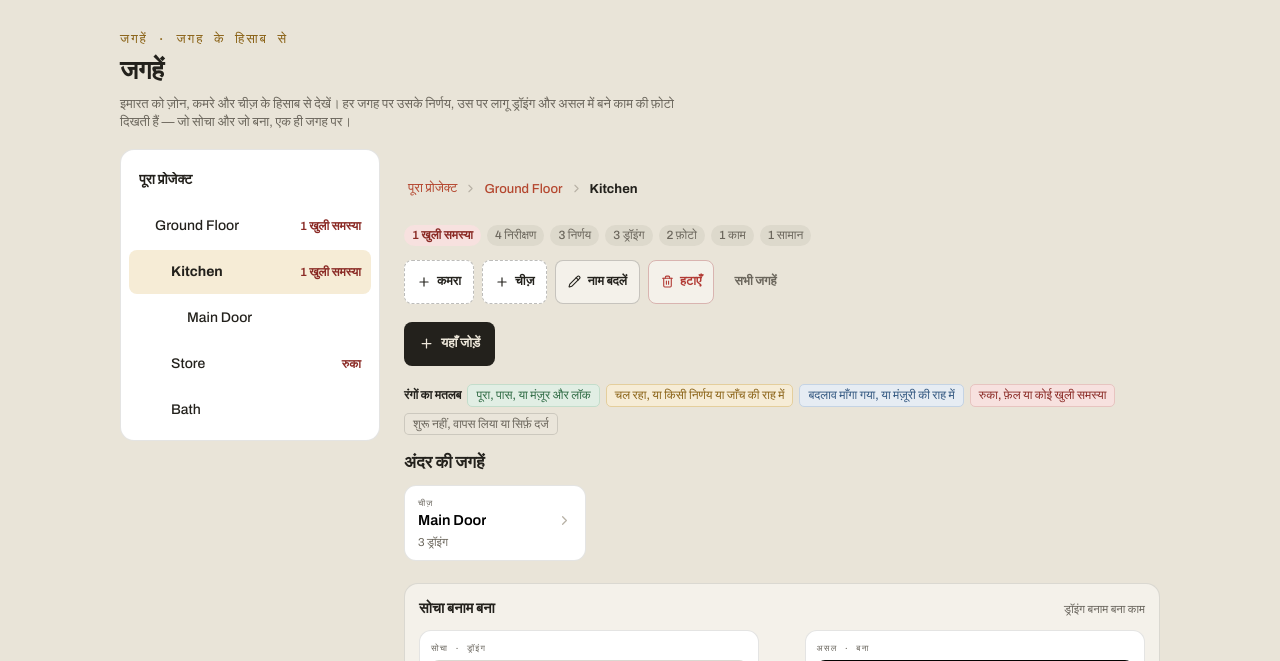
it: the Site Map in hi (#482 QA item 3) › the Add menu, with a delivery blocked, shows no English
Click the button with test id "place-add".
click(450, 344)  # box left=404, top=322, right=495, bottom=366
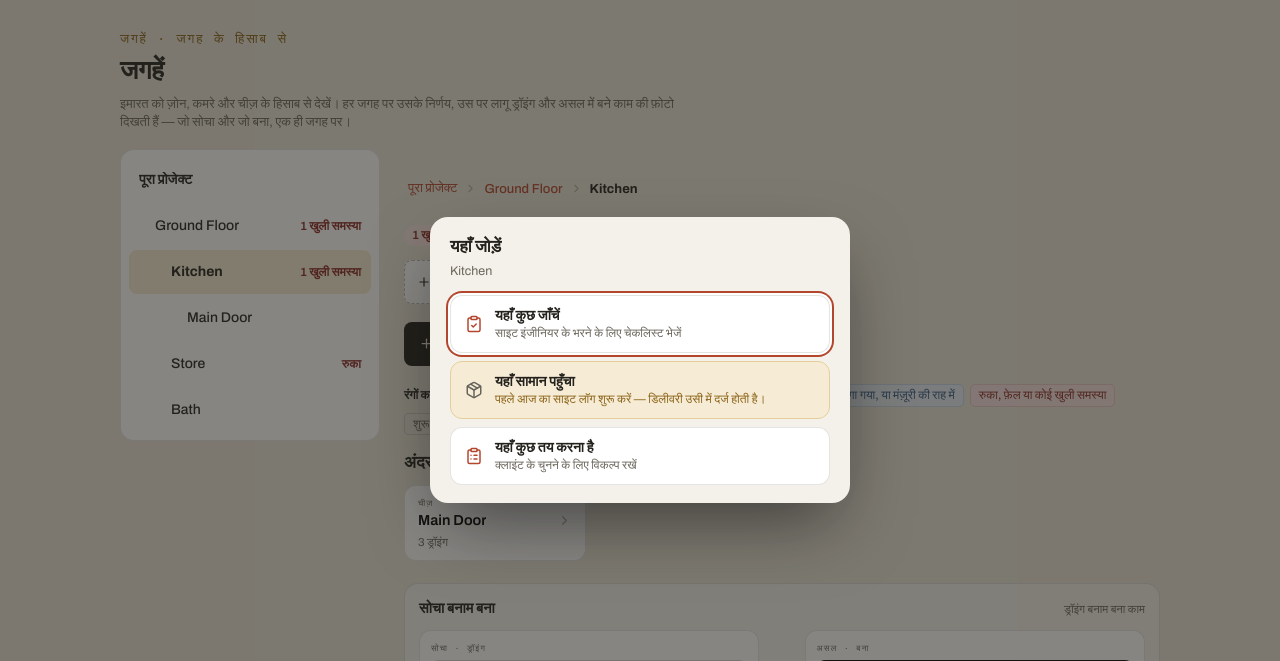
Check: the text with test id "create-material-blocked" is shown, box left=495, top=392, right=766, bottom=406
